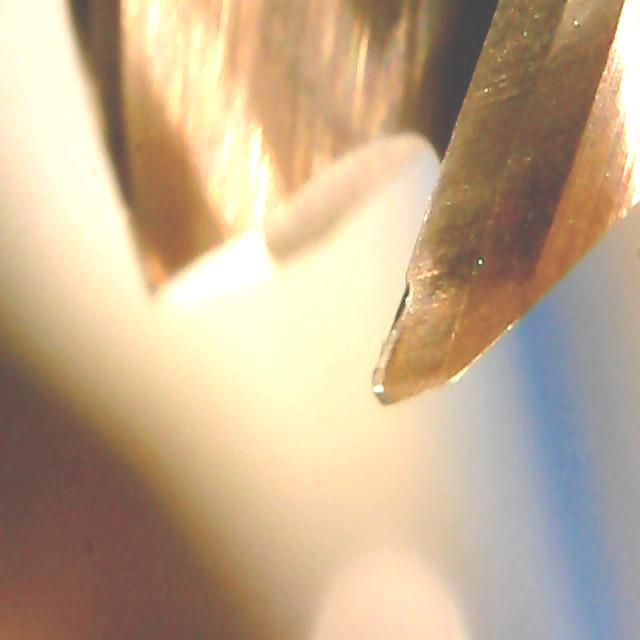Tool-wear-class-1: (347, 186, 503, 411)
